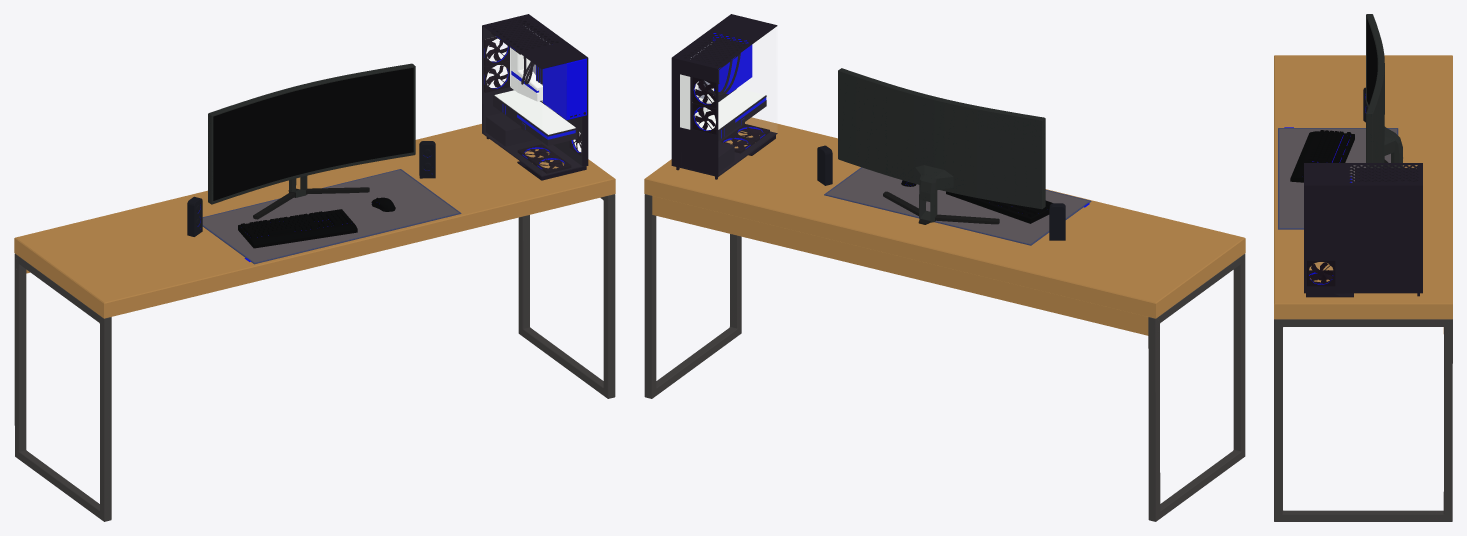
File: gamer_setup_pack.glb
3 views of the same model, side by side, from view 1: azimuth 30°, elevation 25°; view 2: azimuth 150°, elevation 25°; view 3: azimuth 270°, elevation 25° (orthographic).
Visible parts, largest first — view 1: sm_keyboard_mt_keyboard_plastc_0, sm_monitor_mt_monitor_plastc-base_0; view 2: sm_keyboard_mt_keyboard_plastc_0, sm_monitor_mt_monitor_plastc-base_0; view 3: sm_keyboard_mt_keyboard_plastc_0, sm_monitor_mt_monitor_plastc-base_0, fan.010.
Part boxes in pixels (x1=…): sm_keyboard_mt_keyboard_plastc_0: x1=14, y1=14, x2=615, y2=521; sm_monitor_mt_monitor_plastc-base_0: x1=208, y1=63, x2=415, y2=204; sm_keyboard_mt_keyboard_plastc_0: x1=644, y1=14, x2=1245, y2=521; sm_monitor_mt_monitor_plastc-base_0: x1=838, y1=68, x2=1045, y2=222; sm_keyboard_mt_keyboard_plastc_0: x1=1274, y1=19, x2=1452, y2=521; sm_monitor_mt_monitor_plastc-base_0: x1=1366, y1=14, x2=1402, y2=168; fan.010: x1=1310, y1=262, x2=1333, y2=283.
Size of the model in its own units: 2 by 1.25 by 0.6075.
4 materials, 4 textured.
